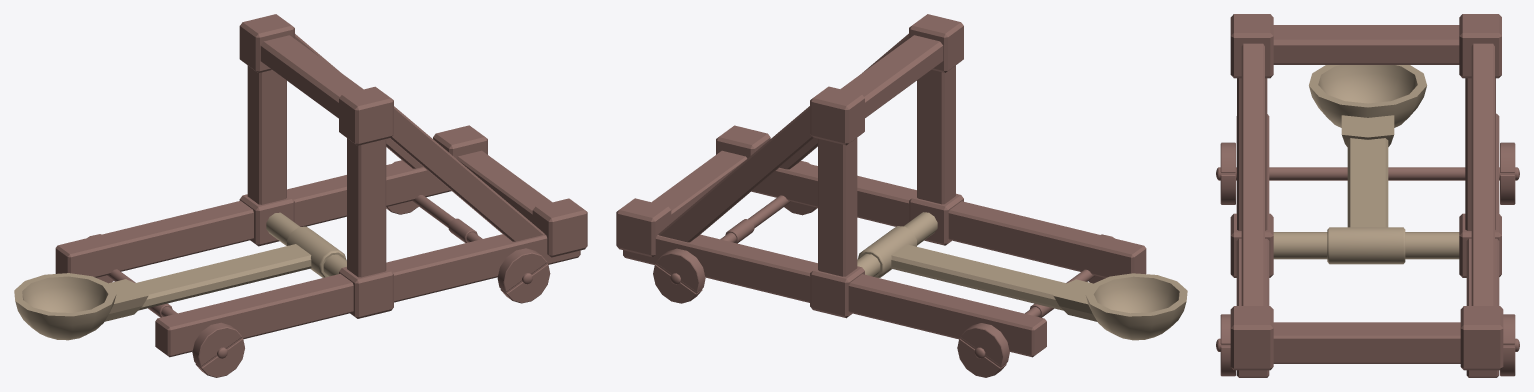
File: catap-m.fbx
The picture shows the model from 3 angles, left to right: view 1: azimuth 30°, elevation 25°; view 2: azimuth 150°, elevation 25°; view 3: azimuth 270°, elevation 25°; orthographic projection. The views are drawn at different scales.
Parts seen in each view (by area): view 1: catap1, catap2; view 2: catap1, catap2; view 3: catap1, catap2.
Boxes of the visible parts, x1,y1,x2,y2 form: catap1: (55,14,587,377); catap2: (14,212,346,340); catap1: (616,14,1146,377); catap2: (857,212,1187,340); catap1: (1216,14,1519,377); catap2: (1273,65,1459,264).
Bounding box in the file's own units: 12.18 × 5.32 × 5.47.
